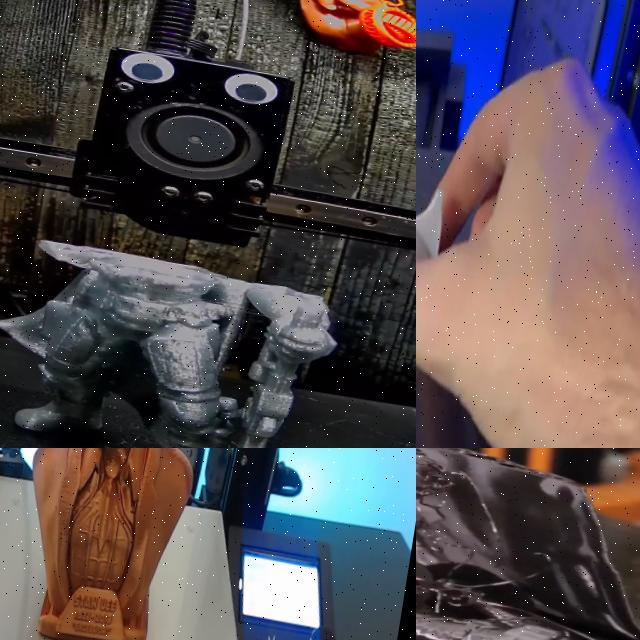spaghetti: (416, 448, 598, 640)
